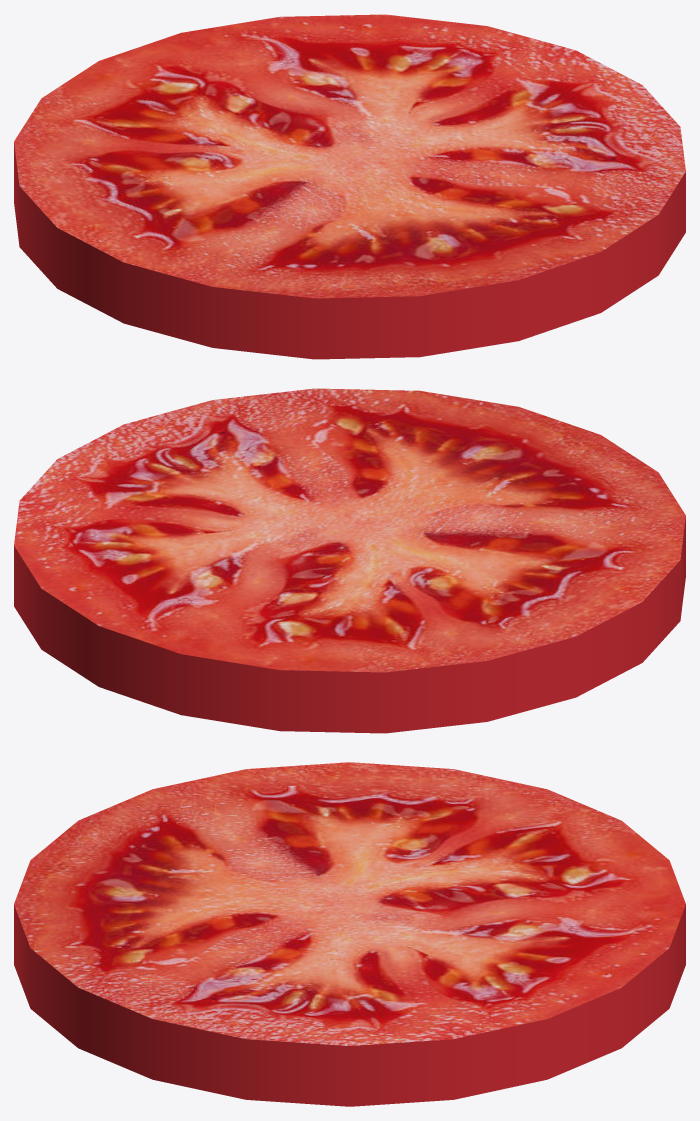
File: Model_Tomato.fbx
3 renders of one model, top to bottom at view 1: azimuth 30°, elevation 25°; view 2: azimuth 150°, elevation 25°; view 3: azimuth 270°, elevation 25°, orthographic.
Parts seen in each view (by area): view 1: pCylinder1; view 2: pCylinder1; view 3: pCylinder1.
Part boxes in pixels (left/top/right/bottom): pCylinder1: left=14, top=14, right=685, bottom=359; pCylinder1: left=14, top=388, right=685, bottom=733; pCylinder1: left=14, top=762, right=685, bottom=1106.
Size of the model in its own units: 0.0237 by 0.00236 by 0.0237.
1 material, 1 textured.
